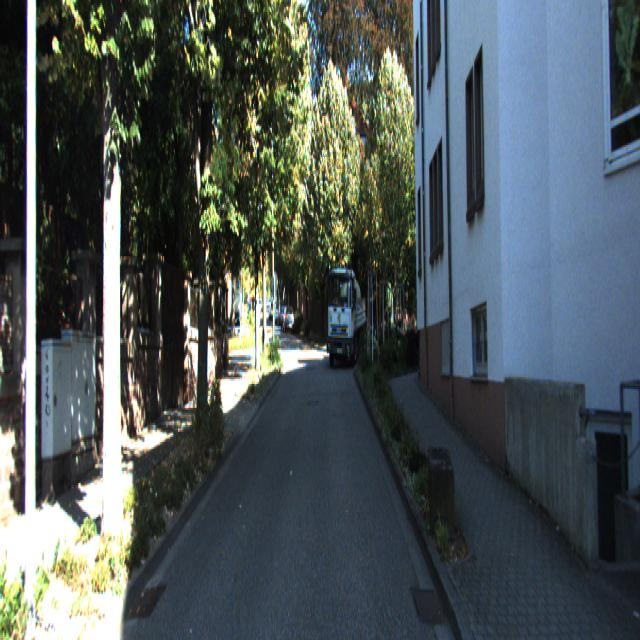Car: (327, 261, 367, 369), (284, 298, 295, 328)
